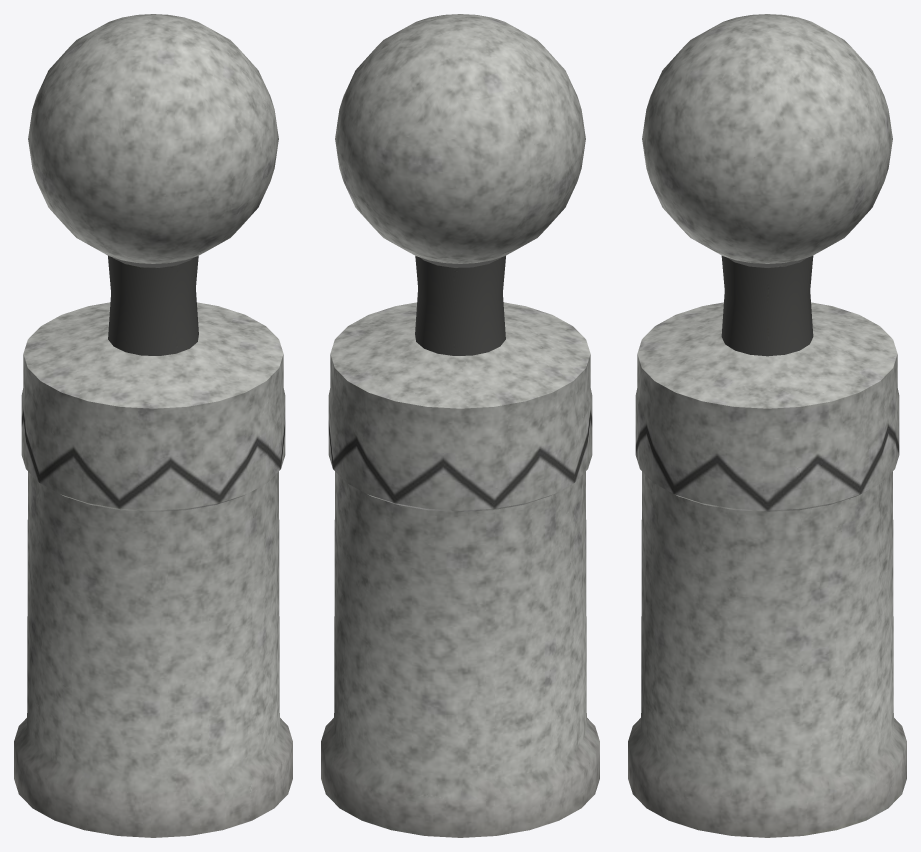
The model's file is post_round_w_hd.glb.
The picture shows the model from 3 angles, left to right: view 1: azimuth 30°, elevation 25°; view 2: azimuth 150°, elevation 25°; view 3: azimuth 270°, elevation 25°; orthographic projection.
Parts seen in each view (by area): view 1: post_round_w; view 2: post_round_w; view 3: post_round_w.
Boxes of the visible parts, x1,y1,x2,y2 form: post_round_w: (14, 14, 292, 837); post_round_w: (321, 14, 599, 837); post_round_w: (628, 14, 906, 837).
Bounding box in the file's own units: 0.3 × 0.895 × 0.3.
1 material, 1 textured.
